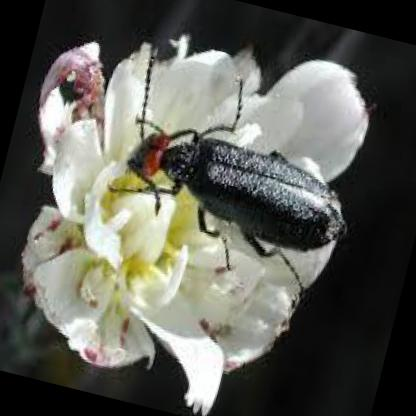blister beetle: (126, 48, 344, 261)
